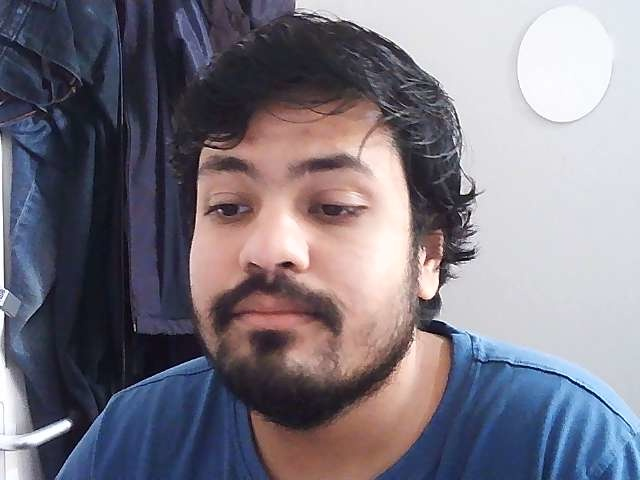Face: (174, 6, 462, 434)
